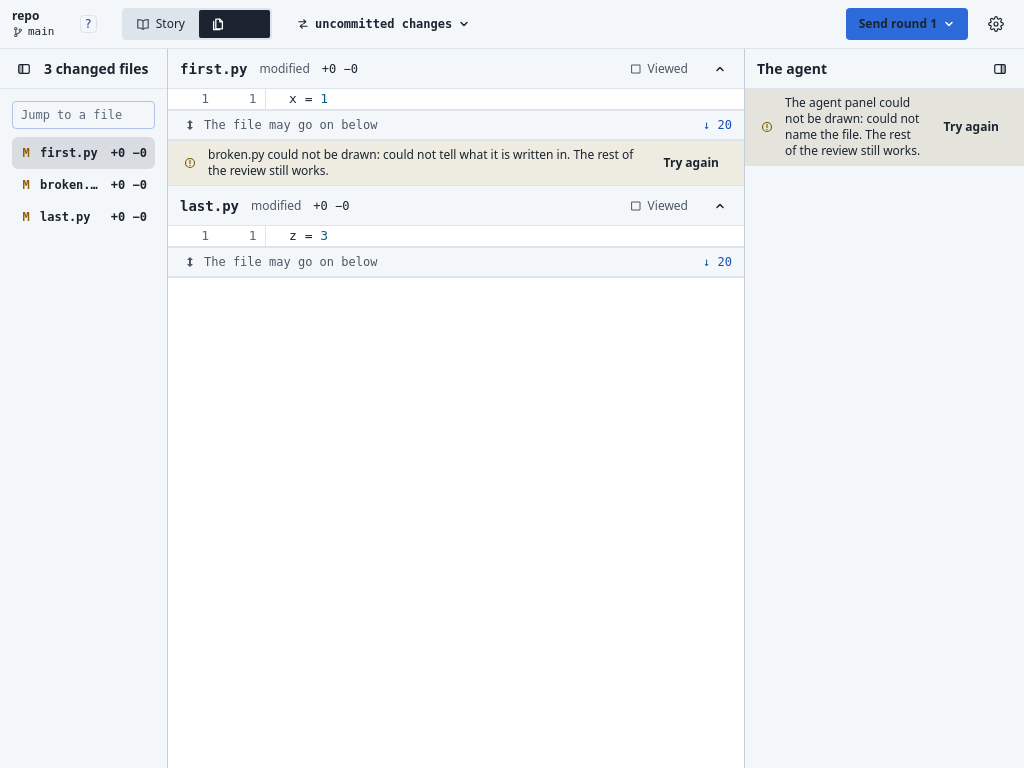
Test: a part of the review that breaks › is drawn again when the reader asks, once what broke it has gone
The image size is (1024, 768).
Click the 1st button with test id "redraw-part" at (971, 127), box 935,115 -> 1008,139
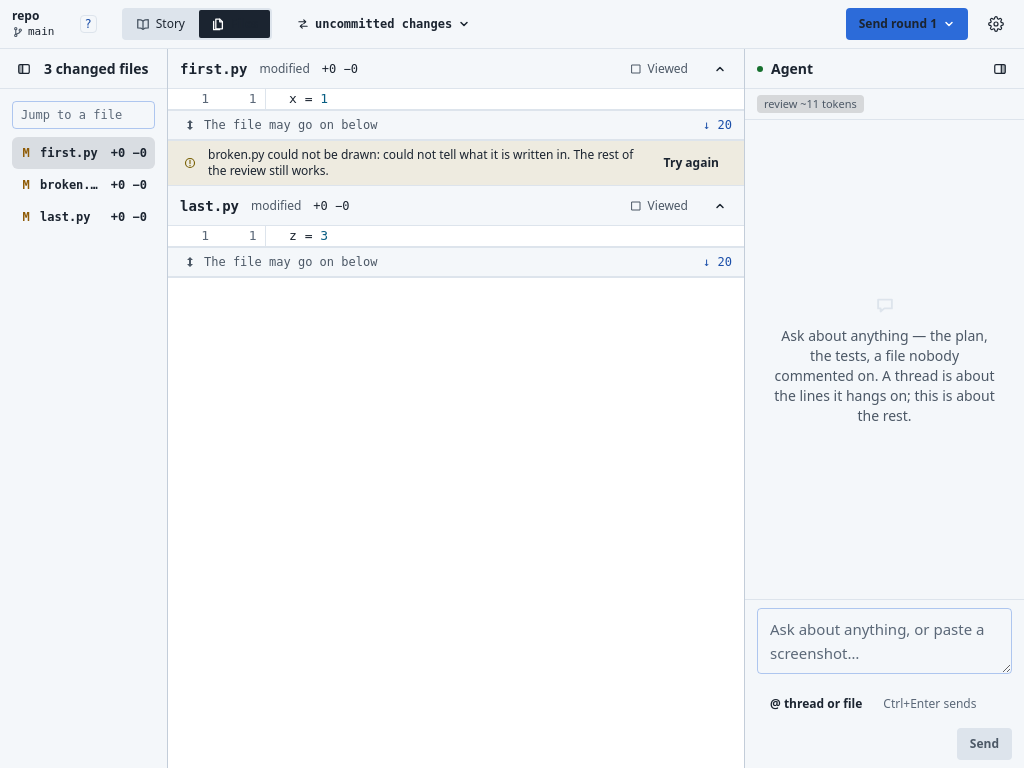
Expected: the element with test id "agent-panel" is shown, 745,49 -> 1023,767
